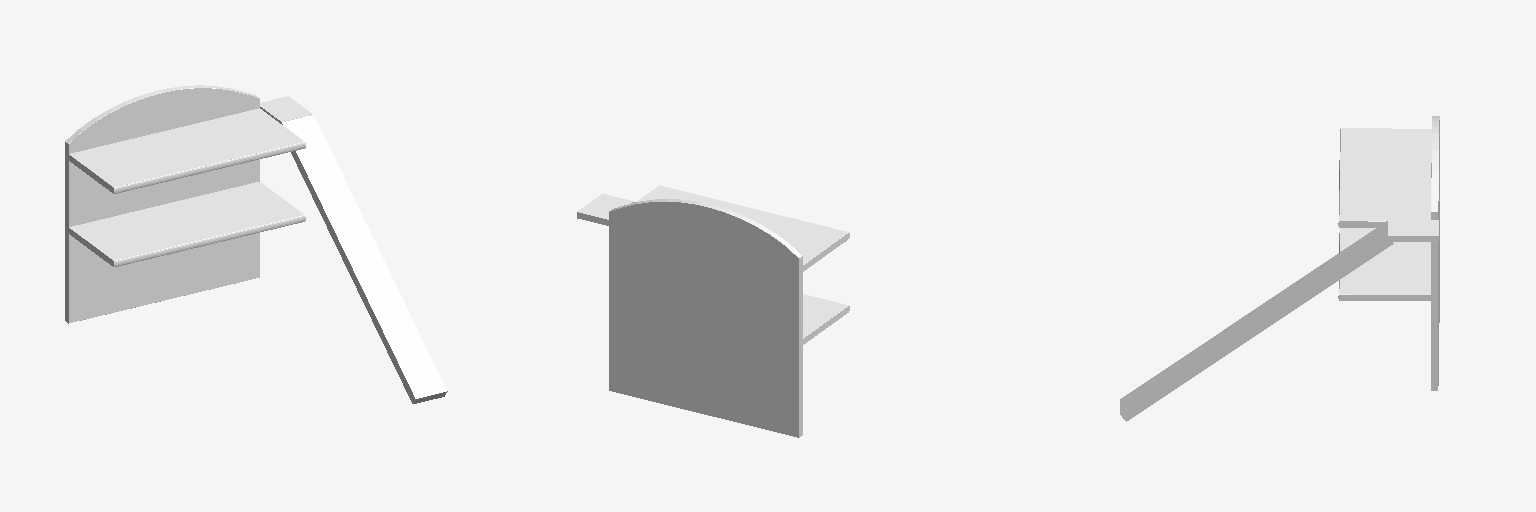
File: wood_shelf.obj
3 views of the same model, side by side, from view 1: azimuth 30°, elevation 25°; view 2: azimuth 150°, elevation 25°; view 3: azimuth 270°, elevation 25° (orthographic).
Visible parts, largest first — view 1: shelf_shelf_None_wood.JPG, Cube_Cube_None, Cube.001_Cube.001_None; view 2: shelf_shelf_None_wood.JPG, Cube.001_Cube.001_None; view 3: shelf_shelf_None_wood.JPG, Cube_Cube_None, Cube.001_Cube.001_None.
Part boxes in pixels (x1,y1,x2,y2): shelf_shelf_None_wood.JPG: (65, 85, 305, 323); Cube_Cube_None: (281, 115, 447, 403); Cube.001_Cube.001_None: (260, 96, 312, 123); shelf_shelf_None_wood.JPG: (609, 185, 849, 437); Cube.001_Cube.001_None: (577, 194, 633, 225); shelf_shelf_None_wood.JPG: (1338, 116, 1439, 390); Cube_Cube_None: (1120, 221, 1393, 421); Cube.001_Cube.001_None: (1388, 220, 1438, 241).
Bounding box in the file's own units: 1.16 × 1.11 × 1.44.